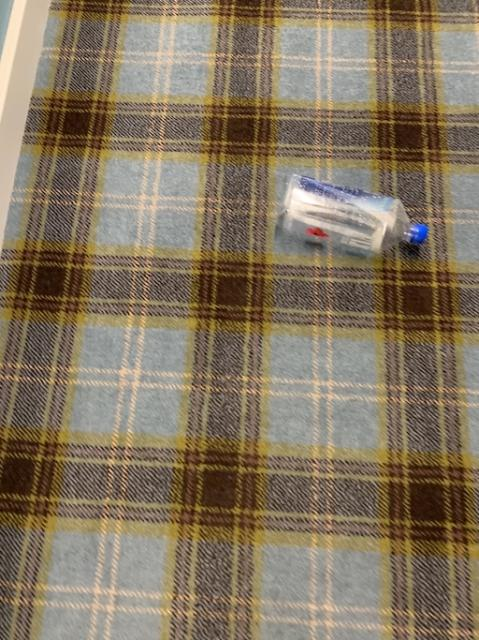plastic: (282, 173, 426, 251)
